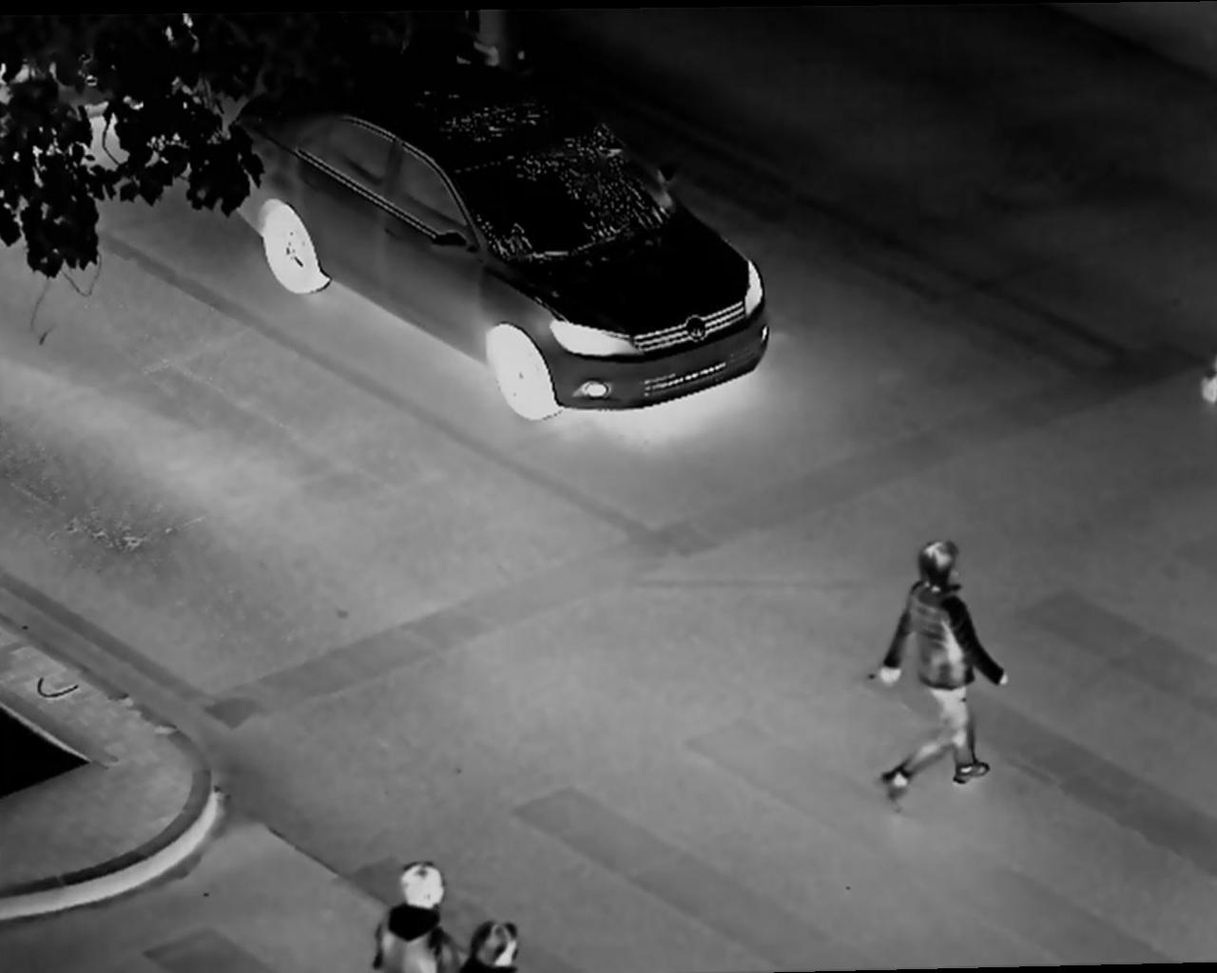person: (877, 532, 1004, 797), (371, 856, 447, 973), (460, 918, 524, 973)
